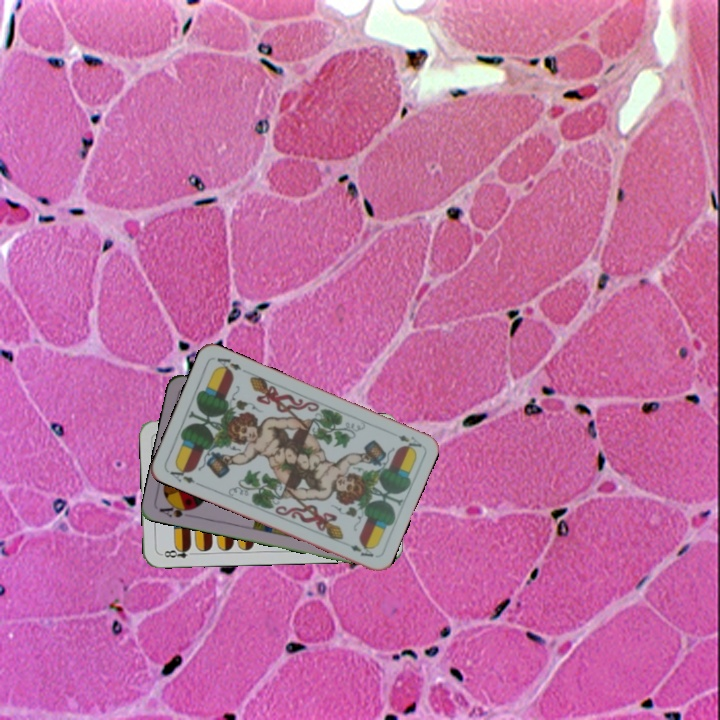E8: (157, 543, 198, 560)
EA: (166, 462, 197, 486), (394, 431, 424, 453)
SA: (156, 499, 197, 520)
